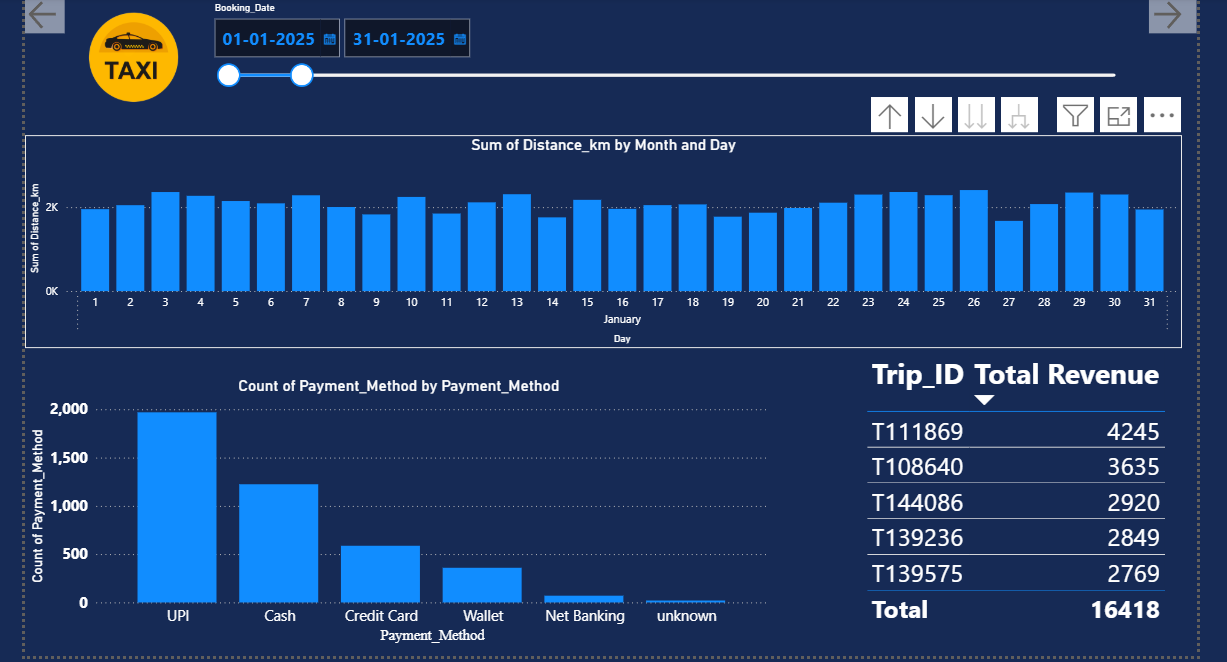

The page's visual inventory and layout, read from the dashboard file:
{"tool":"powerbi","page":{"name":"Revenue","canvas":[1280,720],"ordinal":3},"visuals":[{"type":"columnChart","fields":{"Category":["Trips.Payment_Method"],"Y":["CountNonNull(Trips.Payment_Method)"]},"box":[0,414.3,816.4,296.4],"z":0},{"type":"columnChart","fields":{"Y":["Sum(Trips.Distance_km)"],"Category":["Trips.Booking_Date.Variation.Date Hierarchy.Month","Trips.Booking_Date.Variation.Date Hierarchy.Day"]},"box":[0,150.8,1263.6,232.3],"z":1000},{"type":"slicer","fields":{"Values":["Trips.Booking_Date"]},"box":[194.1,0,1017.5,131.7],"z":2000},{"type":"tableEx","fields":{"Values":["Trips.Trip_ID","Trips.Total Revenue"]},"box":[913.5,383.1,350.1,318.9],"z":3000},{"type":"image","box":[43.3,0,150.8,131.7],"z":4000},{"type":"actionButton","box":[0,0,43.3,39.9],"z":5000},{"type":"actionButton","box":[1227.2,0,52,39.9],"z":6000}]}

Visuals, with their boxes on the page's 1280x720 design canvas (x1, y1, x2, y2). These are canvas units, not pixel positions in the 1227x662 screenshot, which may show the page scaled, cropped or inside an application window:
columnChart - Trips.Payment_Method x CountNonNull(Trips.Payment_Method): rect(0, 414, 816, 711)
columnChart - Sum(Trips.Distance_km) x Trips.Booking_Date.Variation.Date Hierarchy.Month: rect(0, 151, 1264, 383)
slicer - Trips.Booking_Date: rect(194, 0, 1212, 132)
tableEx - Trips.Trip_ID x Trips.Total Revenue: rect(914, 383, 1264, 702)
image: rect(43, 0, 194, 132)
actionButton: rect(0, 0, 43, 40)
actionButton: rect(1227, 0, 1279, 40)
